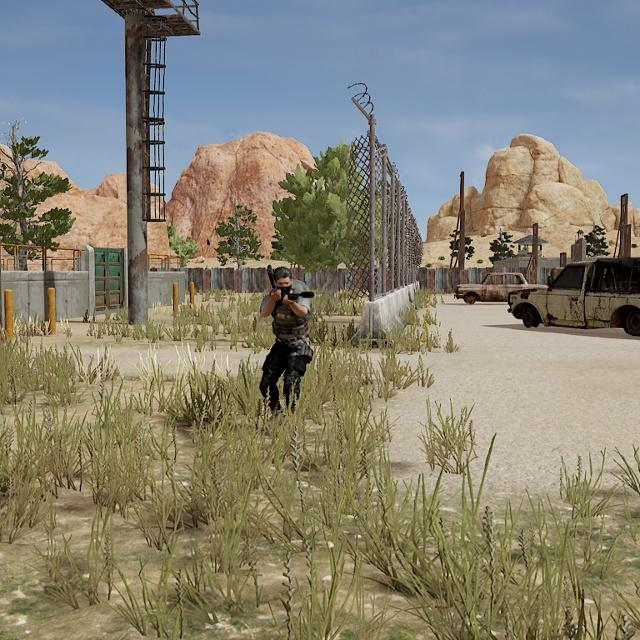head: (269, 265, 295, 295)
people: (252, 262, 318, 427)
